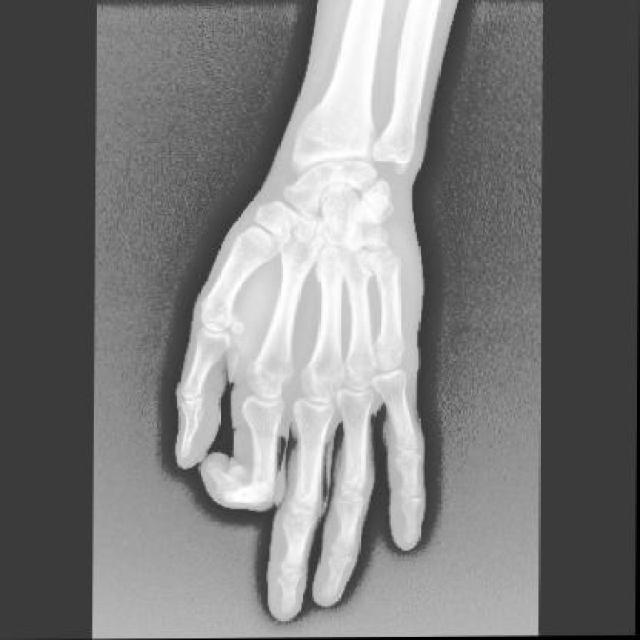Fracture: (371, 251, 405, 282)
